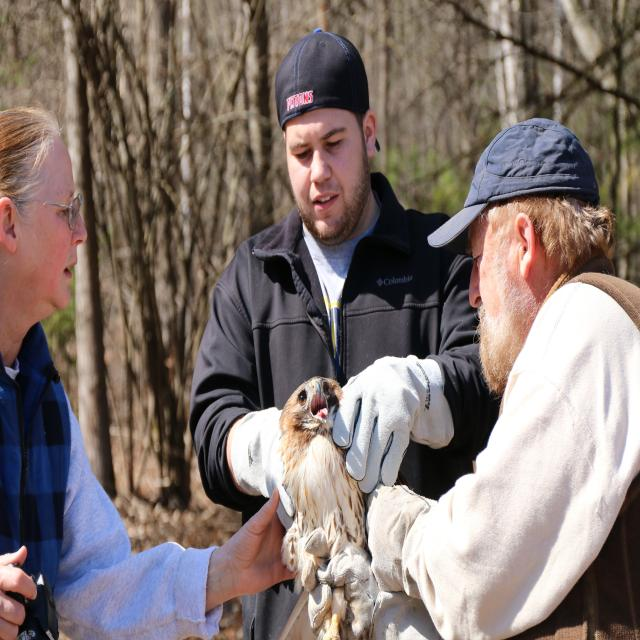body: (188, 30, 501, 640), (0, 100, 295, 640), (294, 99, 502, 506)
